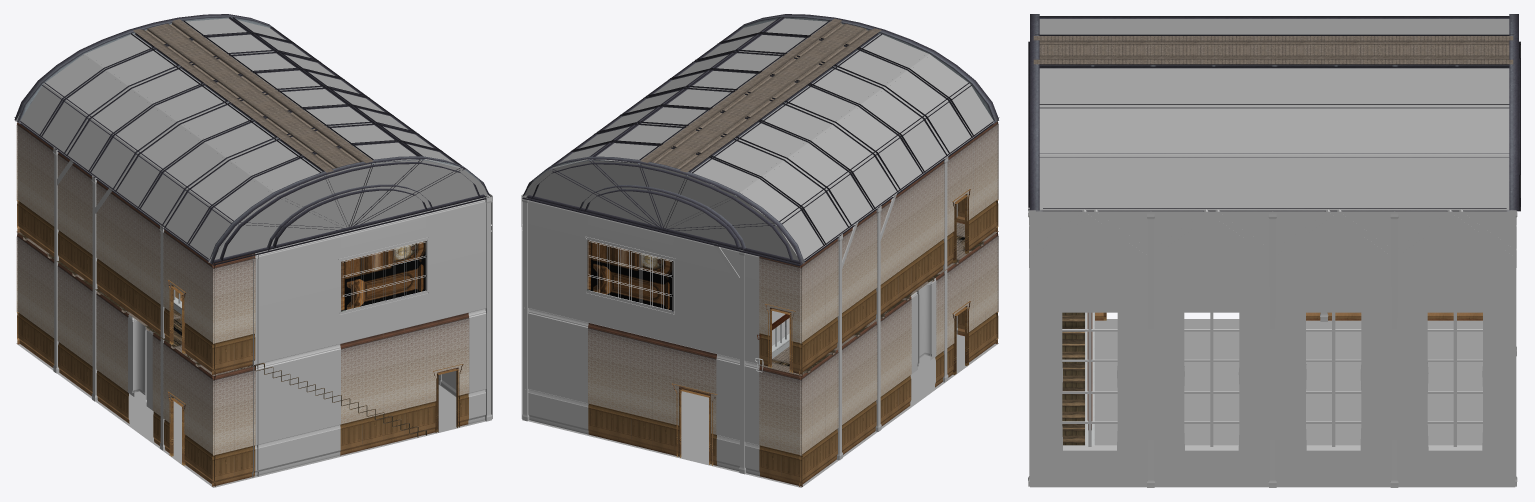
The model's file is room_bighall.fbx.
The picture shows the model from 3 angles, left to right: view 1: azimuth 30°, elevation 25°; view 2: azimuth 150°, elevation 25°; view 3: azimuth 270°, elevation 25°; orthographic projection. The views are drawn at different scales.
Visible parts, largest first — view 1: stairs1; view 2: stairs1; view 3: stairs1.
Boxes of the visible parts, x1,y1,x2,y2 form: stairs1: [14, 14, 492, 487]; stairs1: [521, 14, 999, 487]; stairs1: [1028, 14, 1520, 487].
Size of the model in its own units: 1340 by 1281 by 1618.
